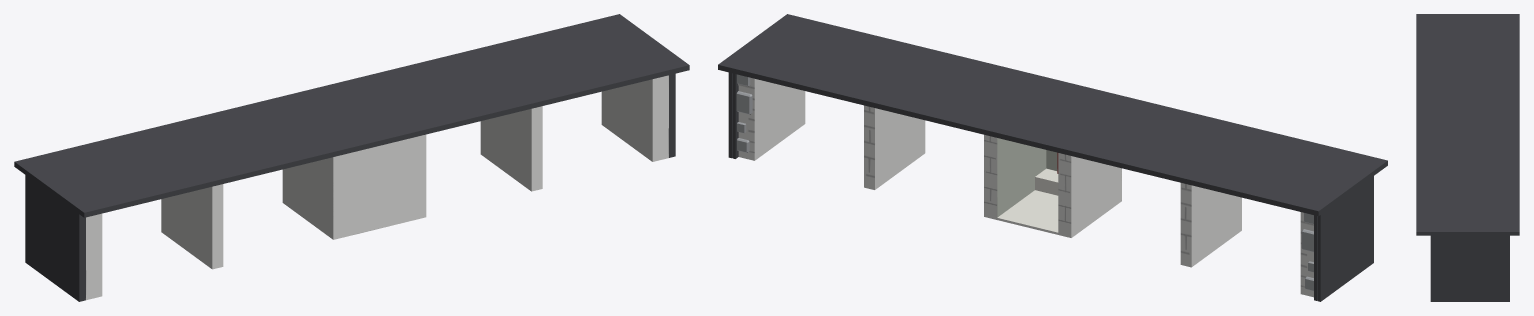
File: Floor.fbx
The picture shows the model from 3 angles, left to right: view 1: azimuth 30°, elevation 25°; view 2: azimuth 150°, elevation 25°; view 3: azimuth 270°, elevation 25°; orthographic projection. The views are drawn at different scales.
Parts seen in each view (by area): view 1: Floor; view 2: Floor; view 3: Floor.
Part boxes in pixels (box(x1,y1,x2,y2)): Floor: box(14, 14, 689, 301); Floor: box(718, 14, 1387, 301); Floor: box(1416, 14, 1519, 301).
Bounding box in the file's own units: 2750 × 422 × 550.
1 material, 1 textured.
